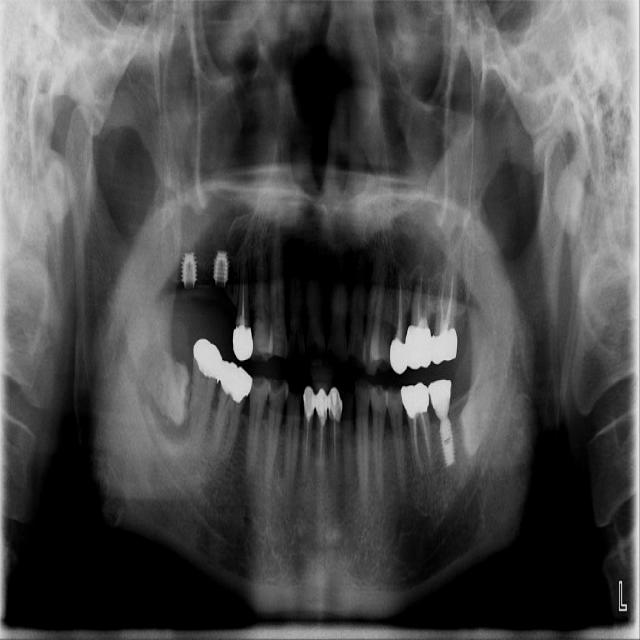Crown: (405, 324, 432, 370), (431, 326, 458, 365), (401, 382, 429, 419), (428, 379, 452, 418), (233, 322, 253, 361), (390, 337, 408, 374), (327, 387, 343, 420), (315, 388, 328, 418), (303, 386, 315, 416)
Filling: (218, 360, 253, 406), (193, 339, 222, 388)
Implant: (439, 416, 455, 467), (182, 253, 198, 289), (213, 251, 229, 286)
Root Canal Treatment: (299, 418, 311, 469), (420, 416, 433, 461), (413, 417, 423, 472), (444, 273, 454, 325), (437, 267, 443, 333), (398, 274, 403, 337), (415, 262, 420, 323), (333, 423, 338, 467), (319, 419, 323, 465), (240, 285, 242, 314)
impacted tooth: (131, 337, 190, 424), (460, 372, 494, 452)
